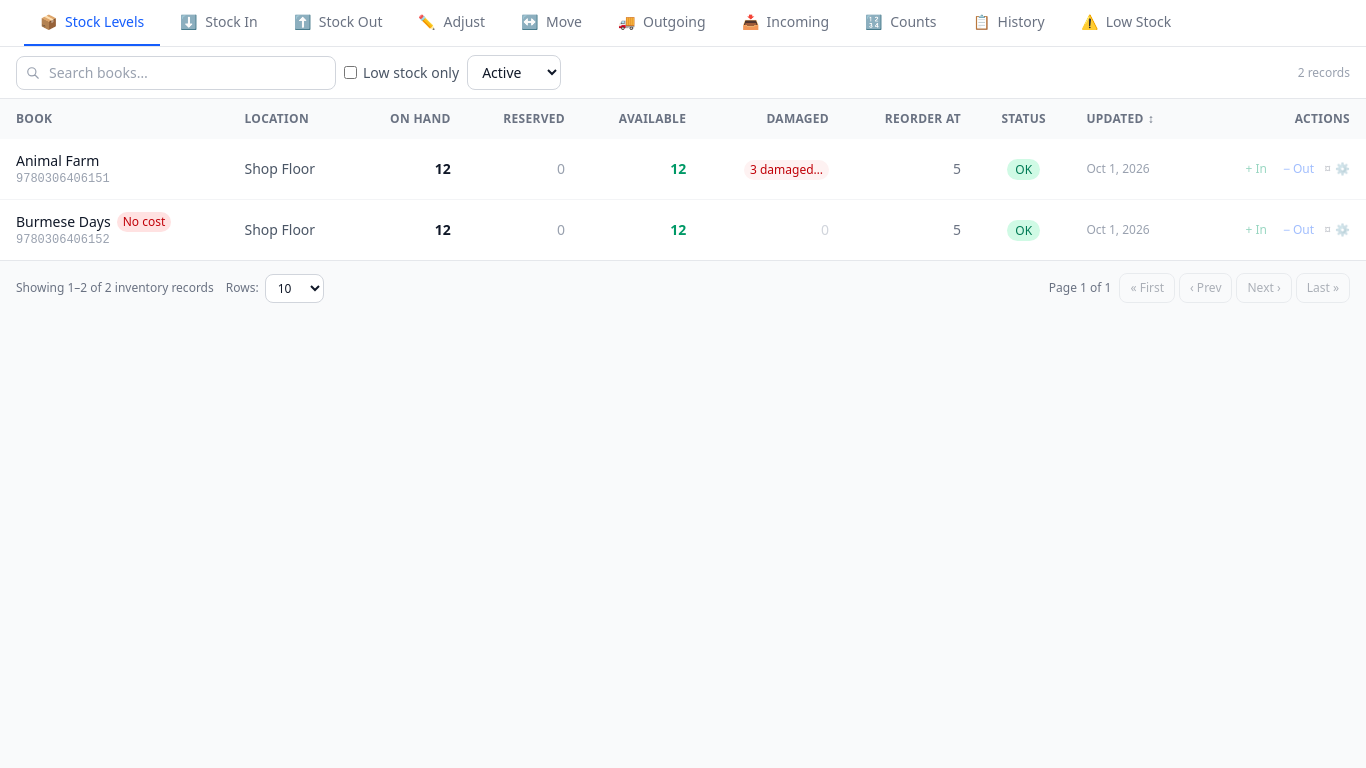
Scenario: Inventory: stock cost (#163) › asks the new cost and its reason in the app's dialog, checked before sending
Check: the text "Animal Farm" is shown, box [16,151,99,171]
Click the button titled "No cost: revalue" at [144, 222], box [117,212,171,232]
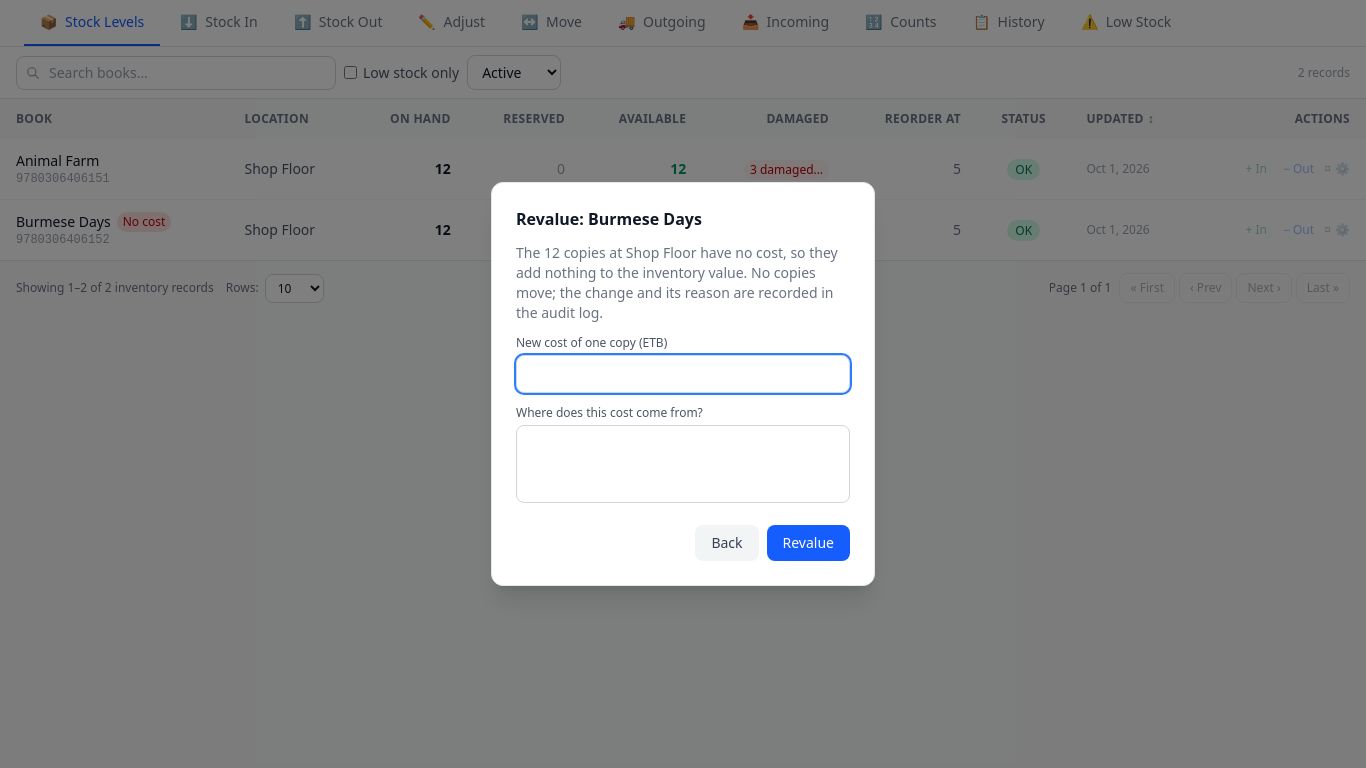
Check: the dialog shows "have no cost, so they add nothing to the inventory value", box [516,243,838,282]
Click the button "Revalue" at [808, 543], box [766,525,850,561]
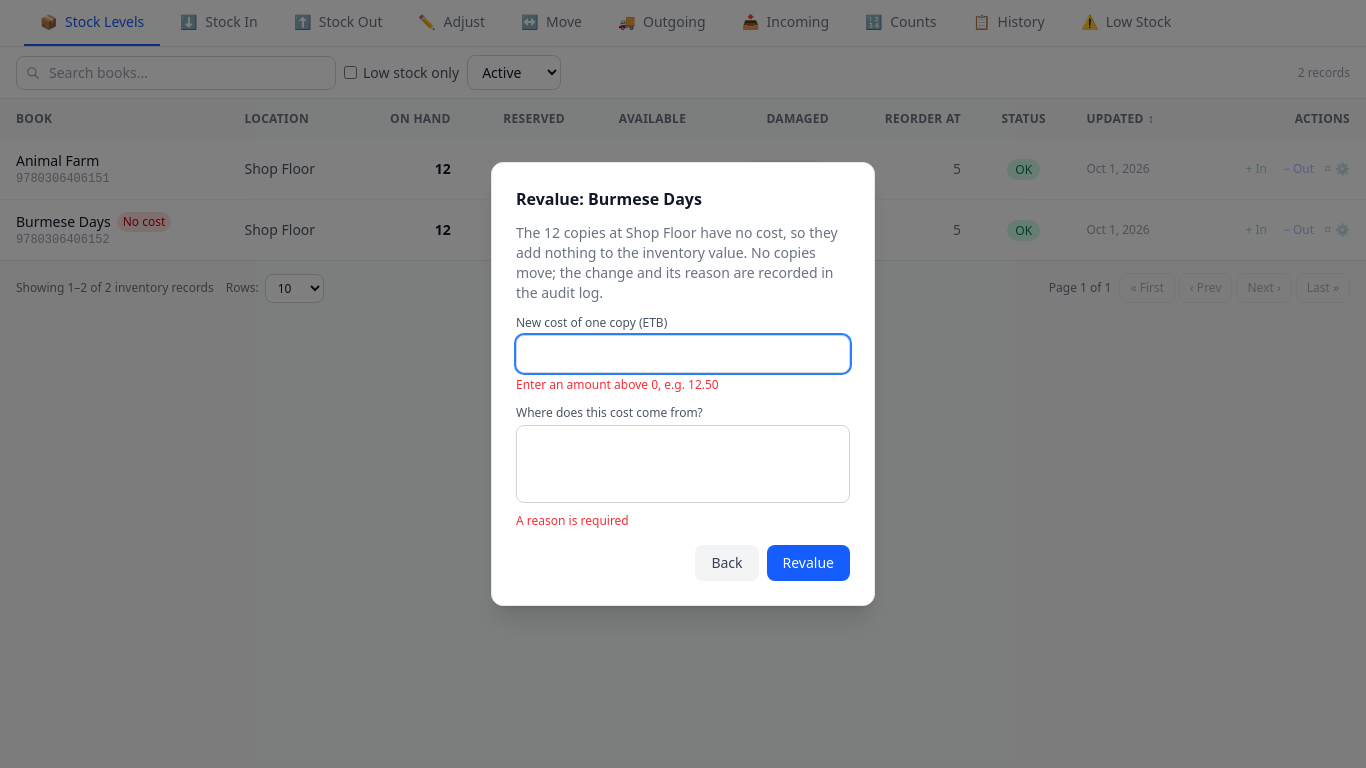
Check: the text "Enter an amount above 0, e.g. 12.50" is shown, box [516,376,719,393]
Check: the text "A reason is required" is shown, box [516,512,629,529]
Type "11.25" into the field labelled "New cost of one copy (ETB)" at [683, 354], box [516,335,850,373]
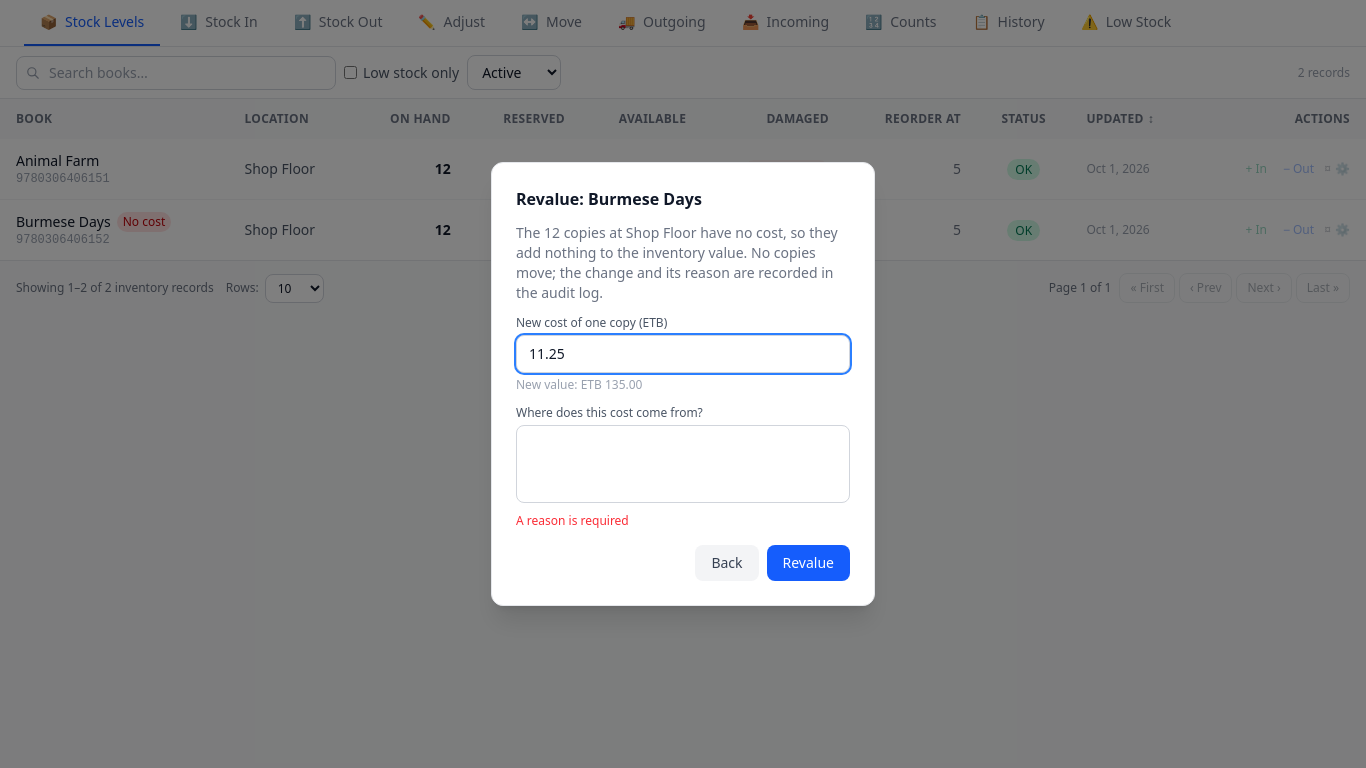
Check: the dialog shows "New value: ETB 135.00", box [516,376,642,393]
Type "Supplier invoice 77" into the text box labelled "Where does this cost come from?" at [683, 464], box [516,425,850,503]
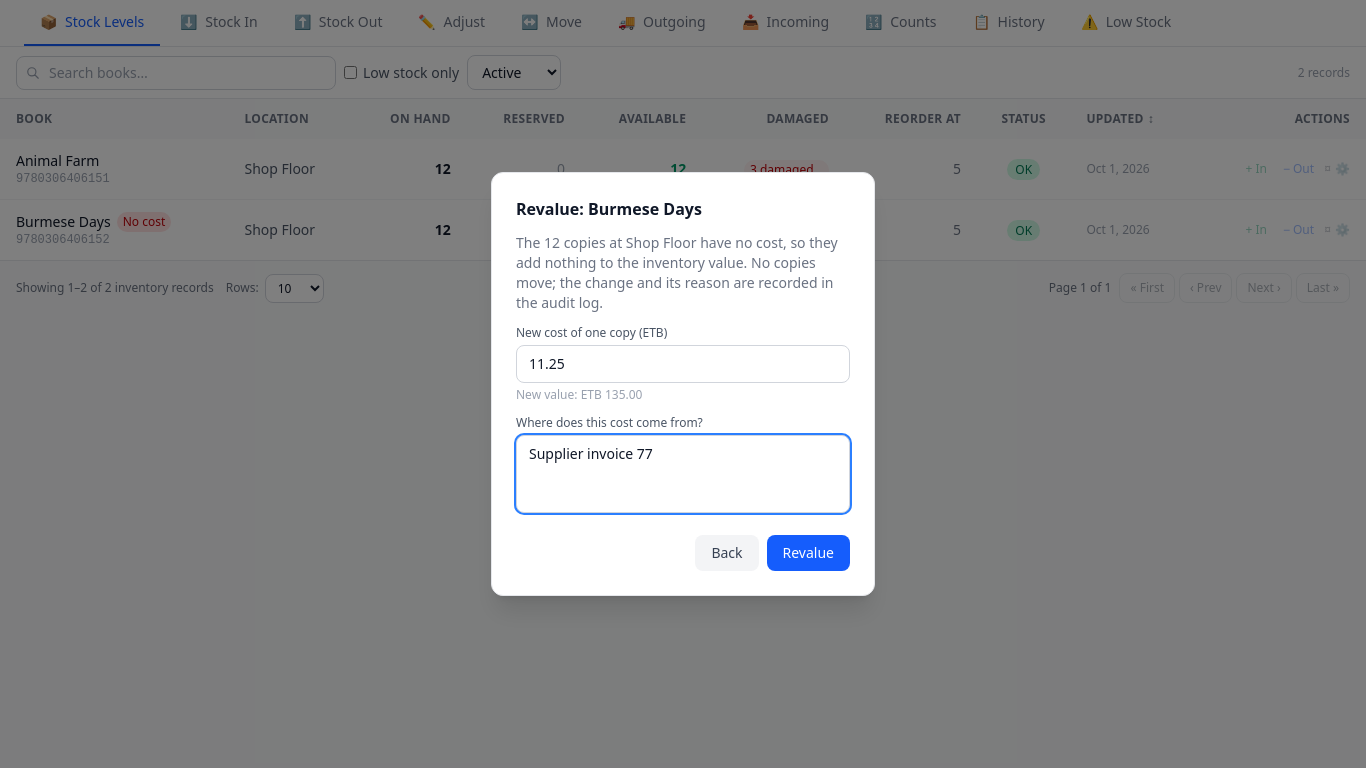
Click the button "Revalue" at [808, 553], box [766,535,850,571]
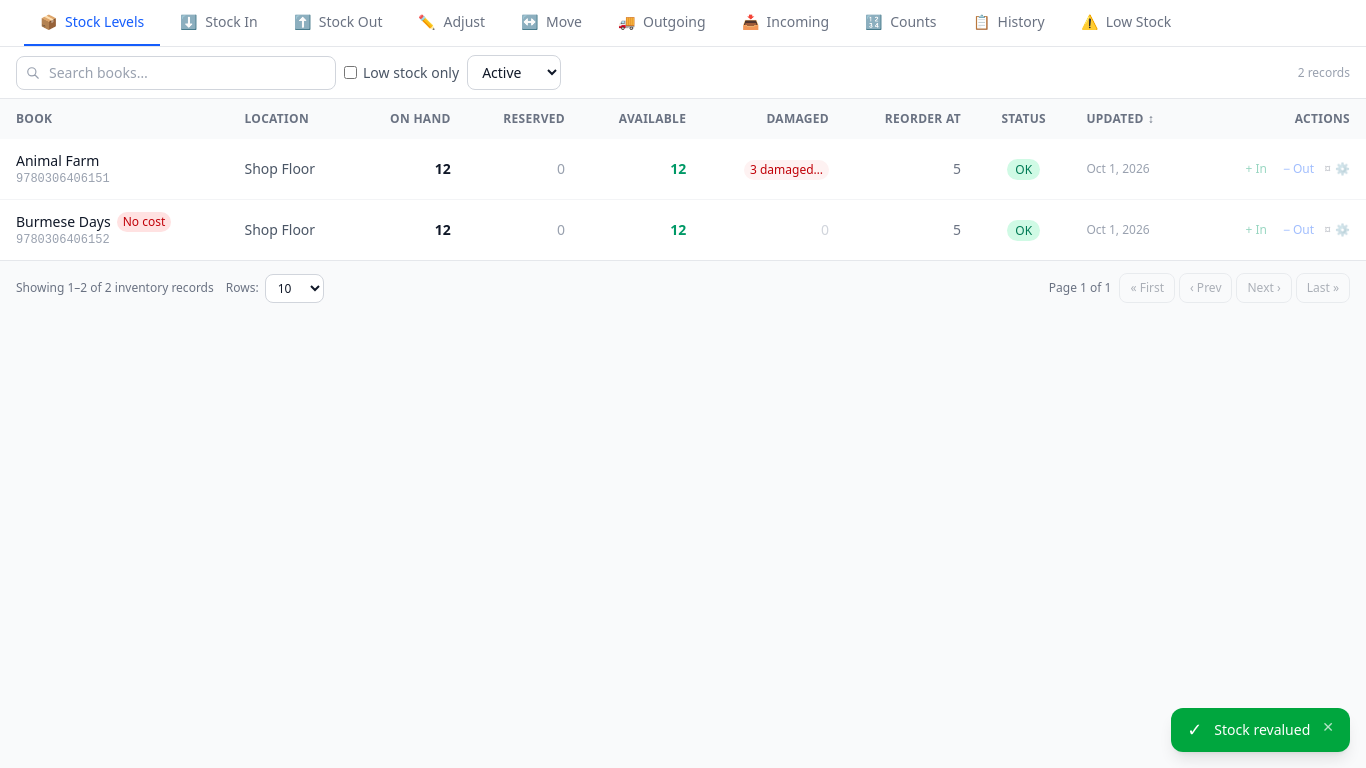
Check: the dialog is gone
